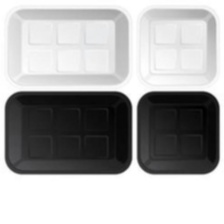foam_box: (1, 87, 134, 177), (1, 3, 133, 91), (135, 88, 222, 176), (135, 3, 221, 89)
